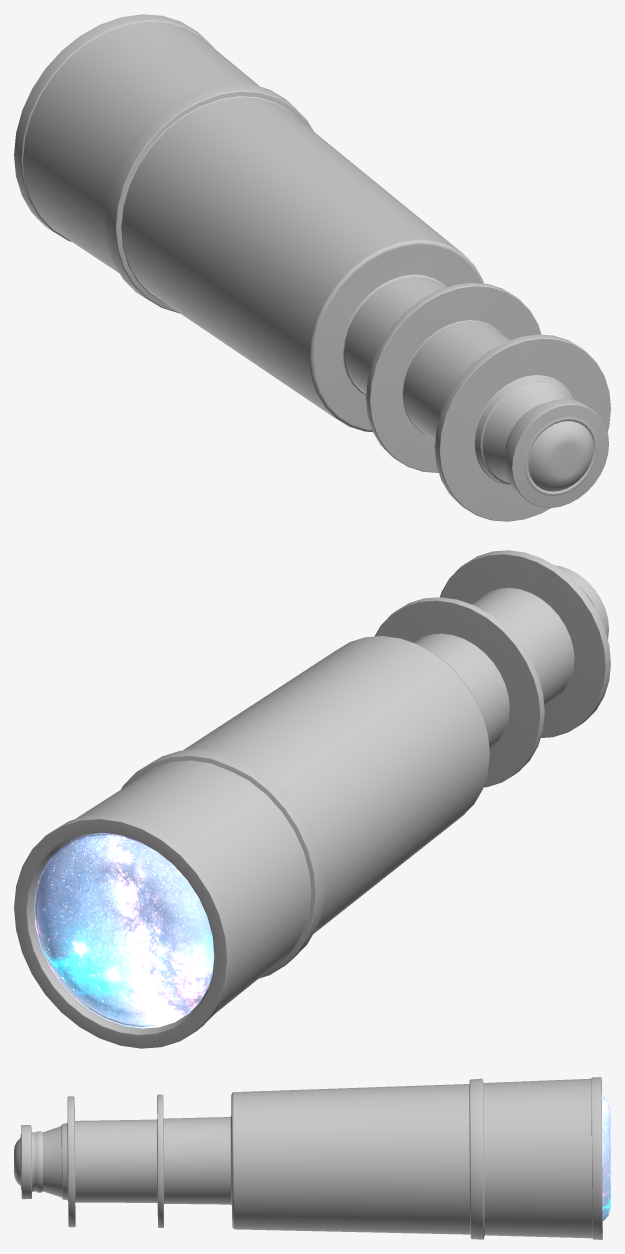
File: SM_TelescopeSimple.fbx
3 views of the same model, one above another, from view 1: azimuth 30°, elevation 25°; view 2: azimuth 150°, elevation 25°; view 3: azimuth 270°, elevation 25° (orthographic). The views are drawn at different scales.
Visible parts, largest first — view 1: SM_TelescopeSimple_LOD0; view 2: SM_TelescopeSimple_LOD0; view 3: SM_TelescopeSimple_LOD0.
Part boxes in pixels (left/top/right/bottom): SM_TelescopeSimple_LOD0: left=14, top=14, right=610, bottom=521; SM_TelescopeSimple_LOD0: left=14, top=550, right=610, bottom=1048; SM_TelescopeSimple_LOD0: left=14, top=1077, right=610, bottom=1239.
Bounding box in the file's own units: 8.54 × 31.28 × 8.54.
